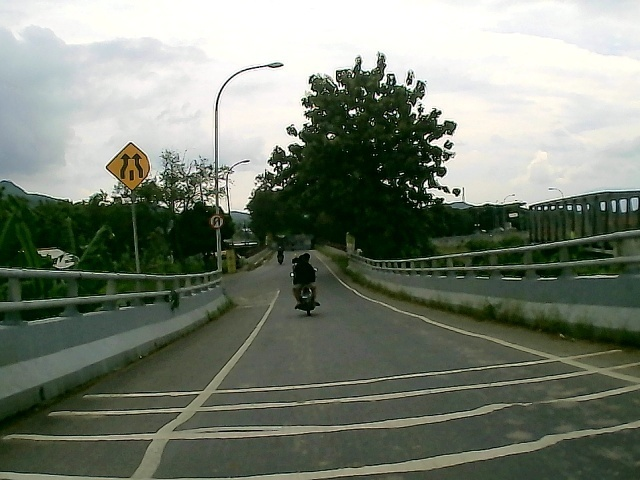Akhir bangunan pemisah satu arah: (99, 139, 156, 193)
